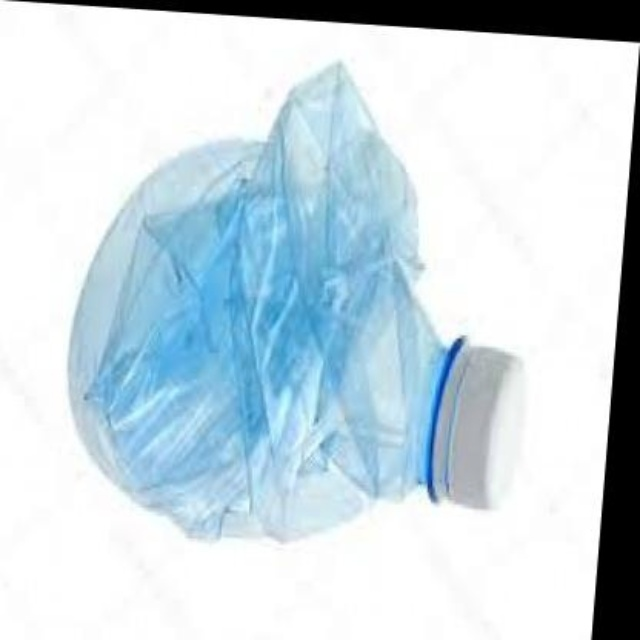trash: (69, 63, 463, 538)
